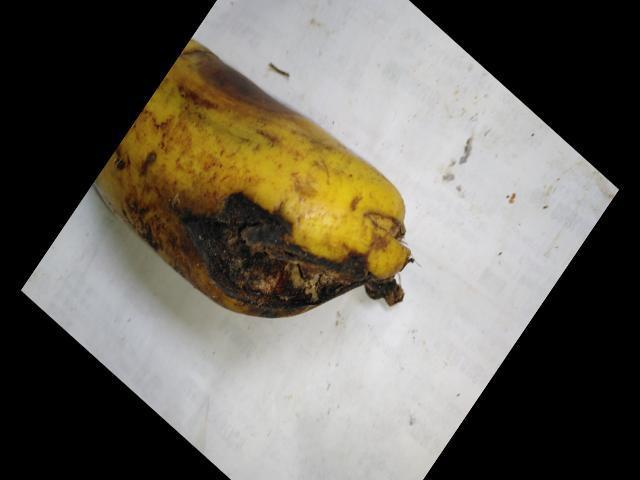ripe: (93, 37, 432, 323)
rotten: (174, 194, 417, 330), (184, 34, 326, 118)
